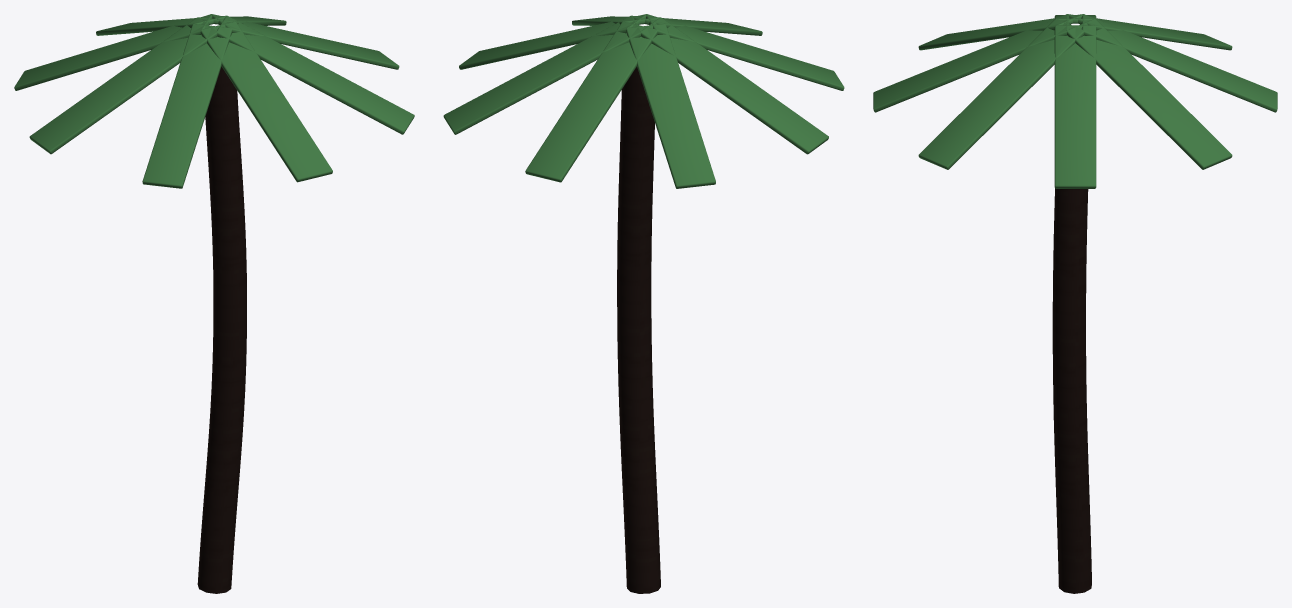
Rendered from tree-palm-f2c184869fe0.glb.
3 views of the same model, side by side, from view 1: azimuth 30°, elevation 25°; view 2: azimuth 150°, elevation 25°; view 3: azimuth 270°, elevation 25° (orthographic).
Visible parts, largest first — view 1: Mesh_Canopy_Foliage, Curved_Trunk; view 2: Mesh_Canopy_Foliage, Curved_Trunk; view 3: Mesh_Canopy_Foliage, Curved_Trunk.
Boxes of the visible parts, left/top/right/bottom form: Mesh_Canopy_Foliage: left=14, top=14, right=414, bottom=188; Curved_Trunk: left=197, top=66, right=246, bottom=593; Mesh_Canopy_Foliage: left=443, top=14, right=844, bottom=188; Curved_Trunk: left=617, top=66, right=660, bottom=593; Mesh_Canopy_Foliage: left=873, top=14, right=1277, bottom=188; Curved_Trunk: left=1052, top=188, right=1091, bottom=593.
Bounding box in the file's own units: 3.31 × 5.1 × 3.31.
Materials: 2 (1 with a texture image).
